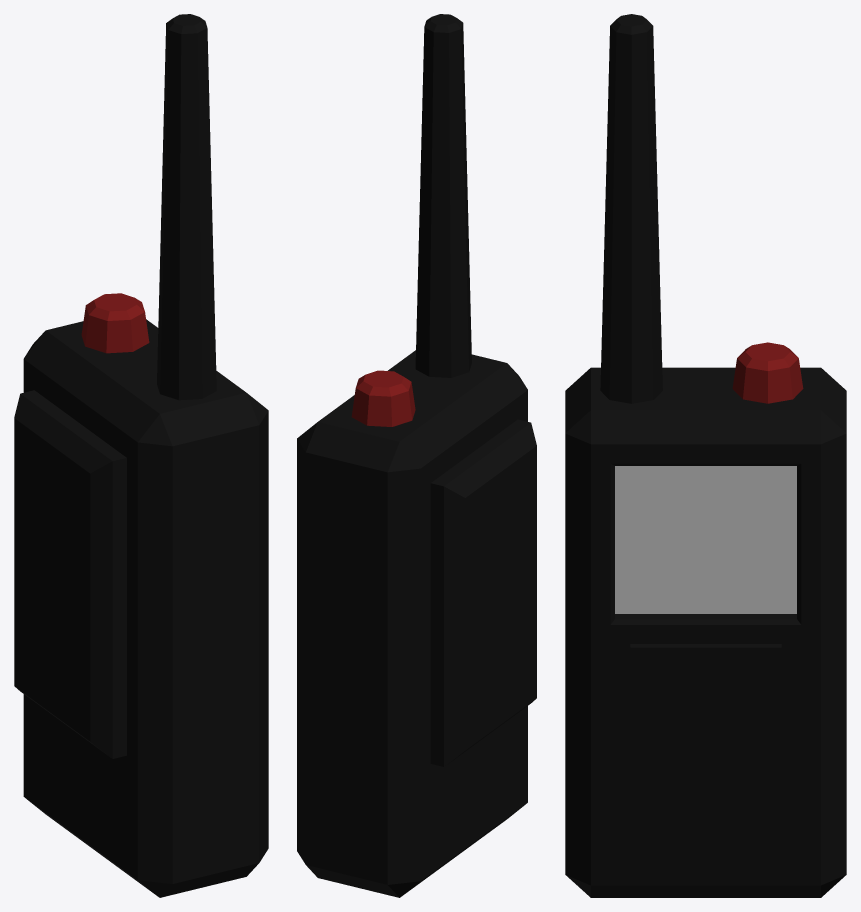
The model's file is radio.glb.
3 views of the same model, side by side, from view 1: azimuth 30°, elevation 25°; view 2: azimuth 150°, elevation 25°; view 3: azimuth 270°, elevation 25° (orthographic). The views are drawn at different scales.
Visible parts, largest first — view 1: Radio; view 2: Radio; view 3: Radio.
Boxes of the visible parts, box(x1,y1,x2,y2) form: Radio: box(14, 14, 268, 897); Radio: box(297, 14, 536, 897); Radio: box(565, 14, 846, 897).
Size of the model in its own units: 0.0616 by 0.3 by 0.0892.
